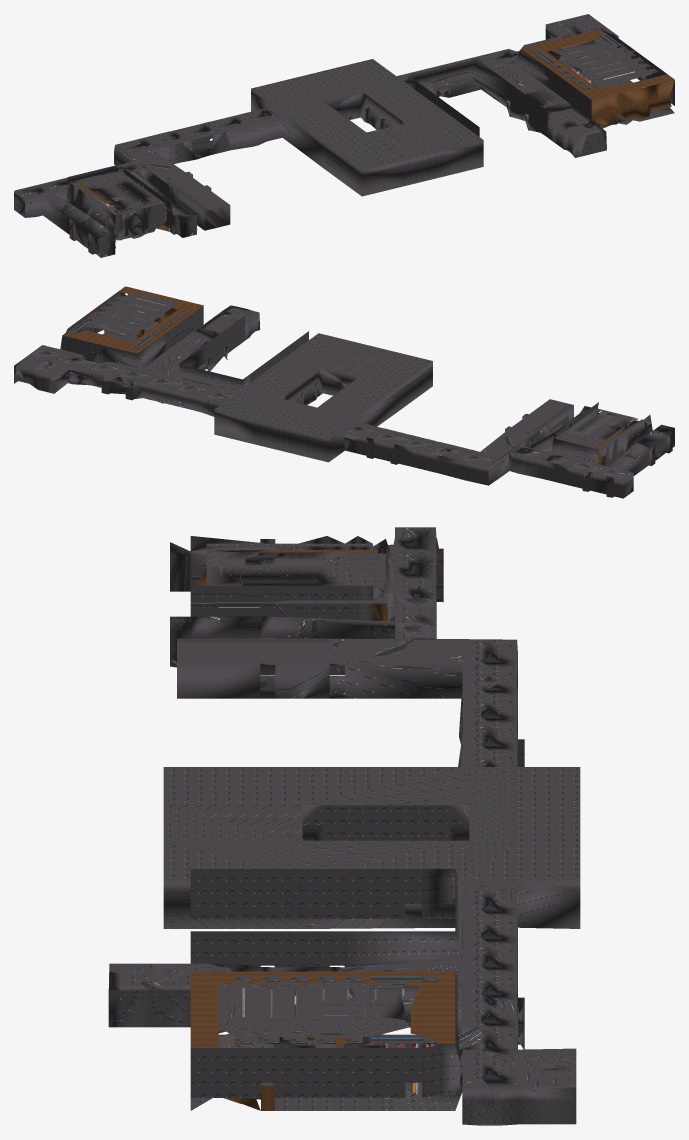
The model's file is court_hall.glb.
3 renders of one model, top to bottom at view 1: azimuth 30°, elevation 25°; view 2: azimuth 150°, elevation 25°; view 3: azimuth 270°, elevation 25°, orthographic. The views are drawn at different scales.
Visible parts, largest first — view 1: body; view 2: body; view 3: body.
Boxes of the visible parts, bbox=[...] form: body: bbox=[14, 14, 674, 257]; body: bbox=[14, 286, 674, 498]; body: bbox=[108, 527, 580, 1125].
Bounding box in the file's own units: 24 × 1.41 × 8.53.
8 materials, 8 textured.
